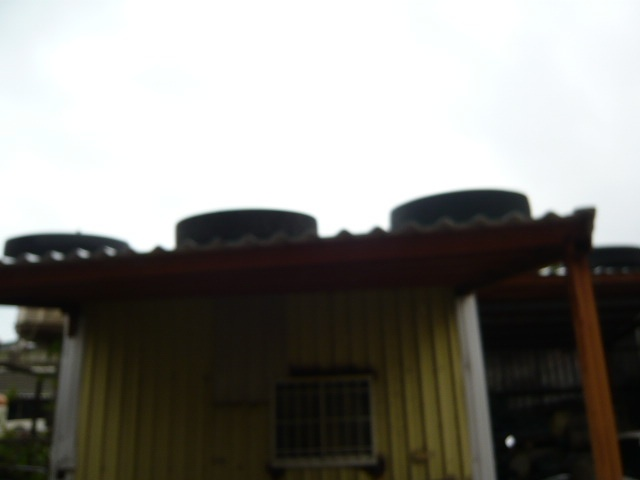tire: (386, 189, 533, 229), (173, 208, 319, 247), (3, 228, 140, 266)
